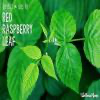Raspberry leaf: (55, 43, 83, 95), (50, 4, 77, 43), (20, 61, 39, 100), (41, 54, 58, 82), (19, 45, 42, 59)
